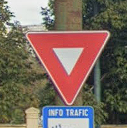cedeaza: (26, 30, 112, 107)
